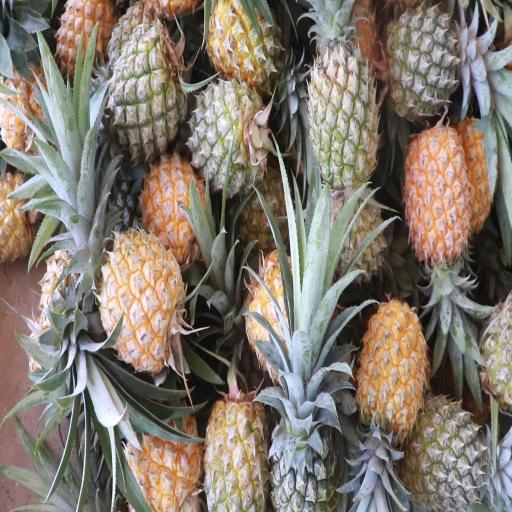Pineapple - v8 v1: (99, 225, 190, 382), (357, 296, 427, 447), (402, 132, 471, 285), (139, 154, 216, 274), (201, 388, 272, 512), (206, 4, 292, 102), (53, 0, 119, 85)
